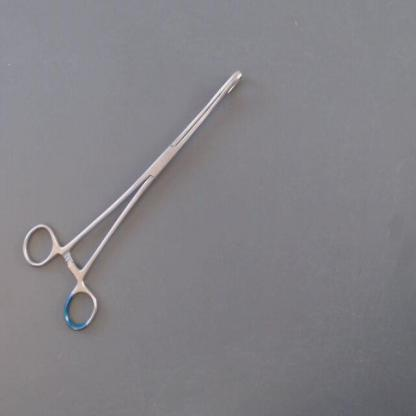Sponge Forceps: (18, 62, 257, 337)
